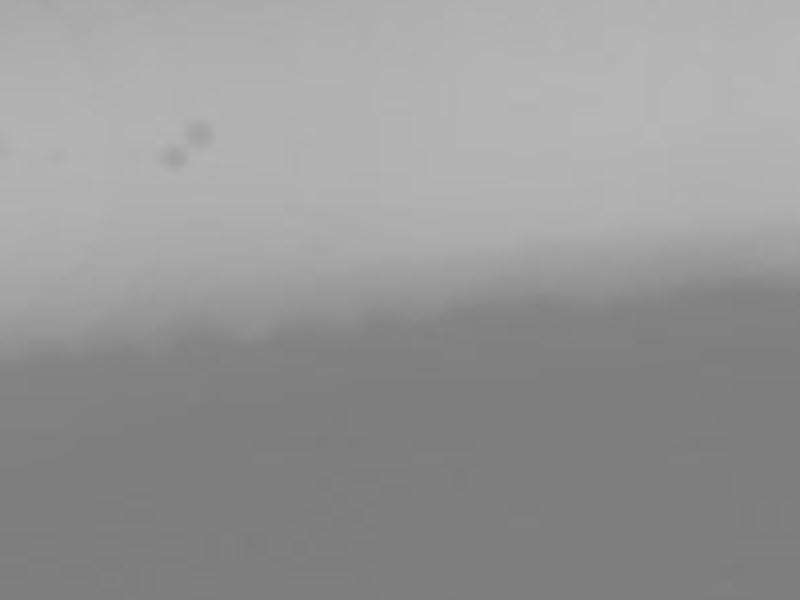defect: (188, 118, 218, 152), (160, 142, 189, 173)
